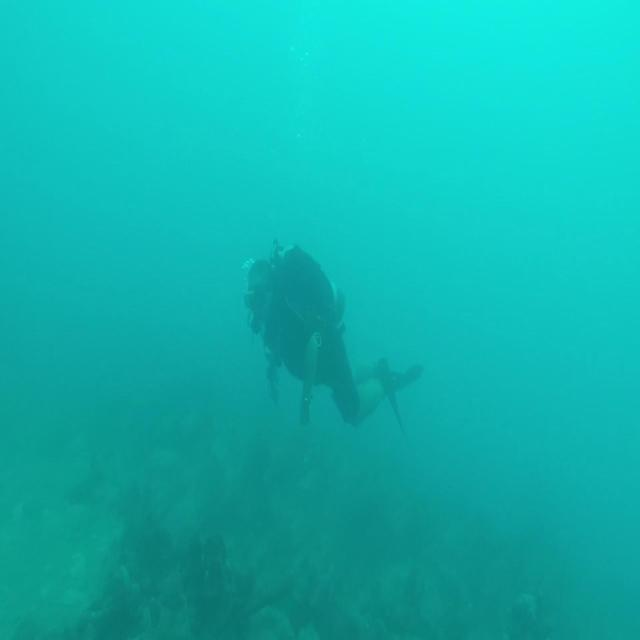human: (243, 239, 424, 434)
